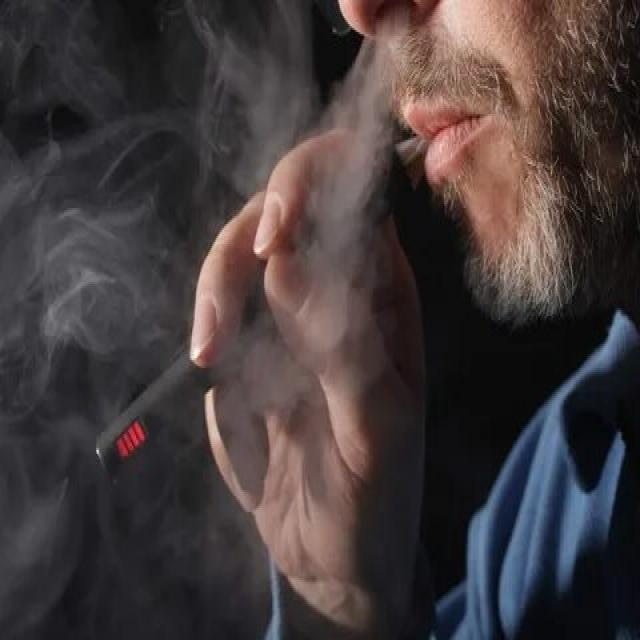smoke: (94, 124, 434, 488)
